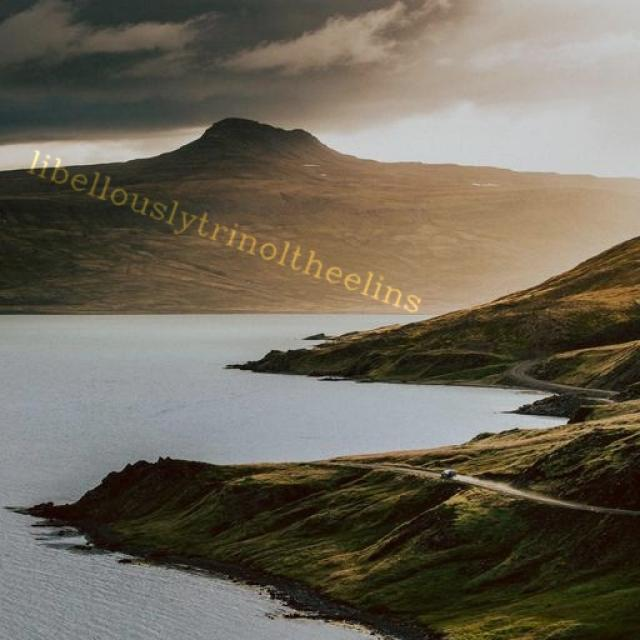watermark: (17, 146, 440, 319)
